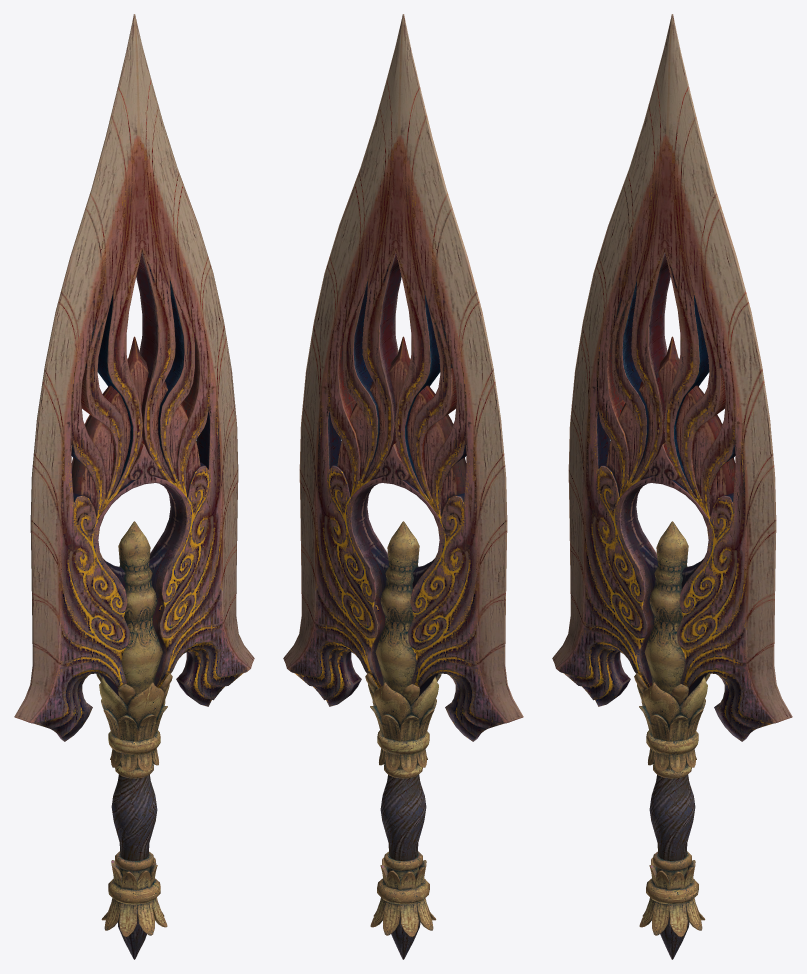
The model's file is one016.obj.
The picture shows the model from 3 angles, left to right: view 1: azimuth 30°, elevation 25°; view 2: azimuth 150°, elevation 25°; view 3: azimuth 330°, elevation 25°; orthographic projection.
Parts seen in each view (by area): view 1: one016_000_LOD_1; view 2: one016_000_LOD_1; view 3: one016_000_LOD_1.
Boxes of the visible parts, bbox=[...] form: one016_000_LOD_1: bbox=[14, 14, 254, 959]; one016_000_LOD_1: bbox=[283, 14, 523, 959]; one016_000_LOD_1: bbox=[552, 14, 792, 959].
Size of the model in its own units: 35.36 by 133 by 9.84.
